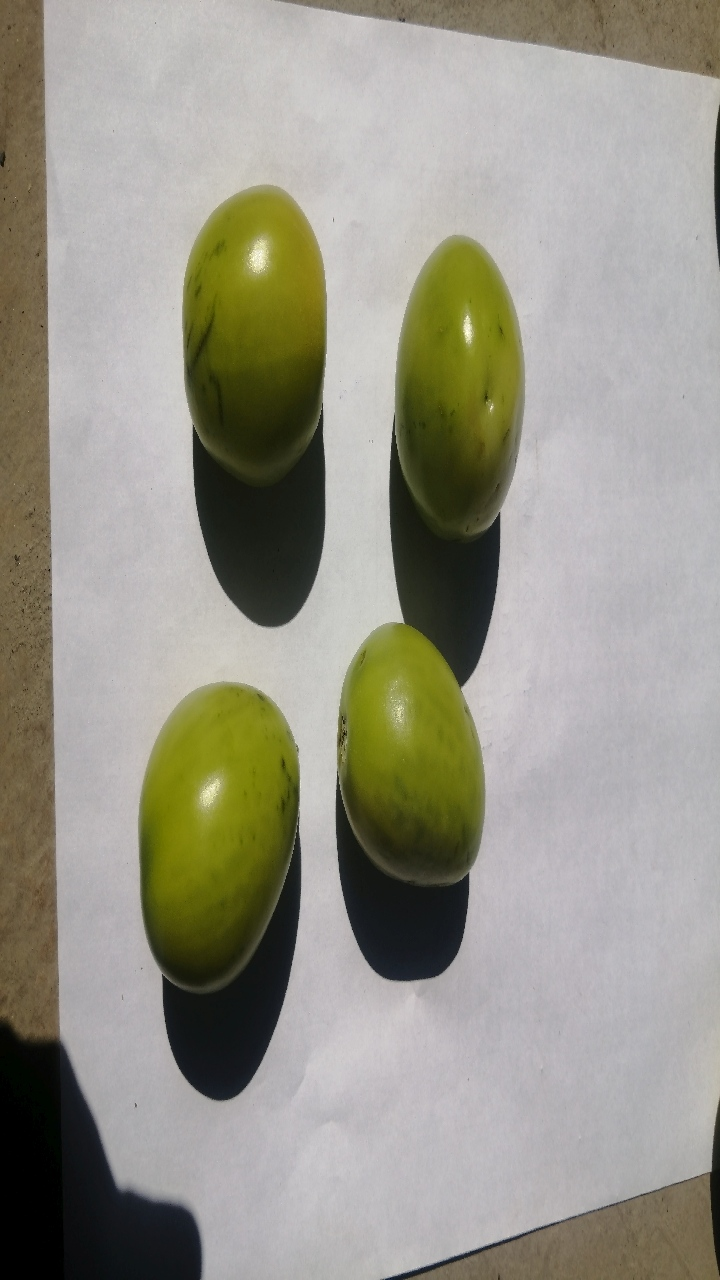tomateVerde: (121, 659, 329, 1019), (294, 600, 528, 920), (143, 166, 358, 511), (369, 206, 555, 562)
